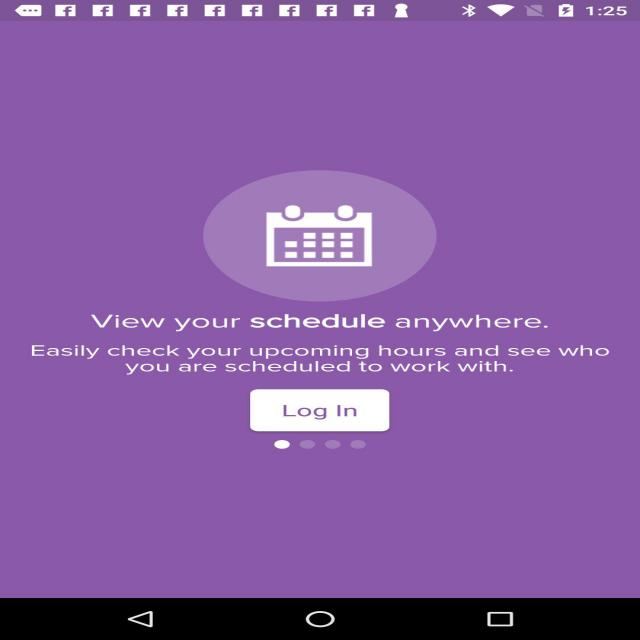button: (250, 392, 384, 426)
icon: (198, 165, 446, 308), (259, 208, 384, 272), (268, 435, 382, 453)
text: (18, 345, 630, 375), (93, 312, 562, 334), (275, 403, 361, 424)
